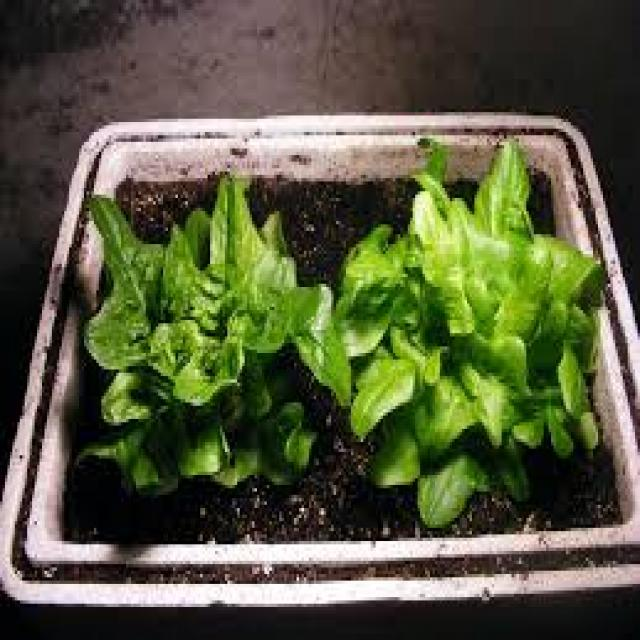organic waste: (334, 139, 603, 521), (72, 171, 348, 495)
